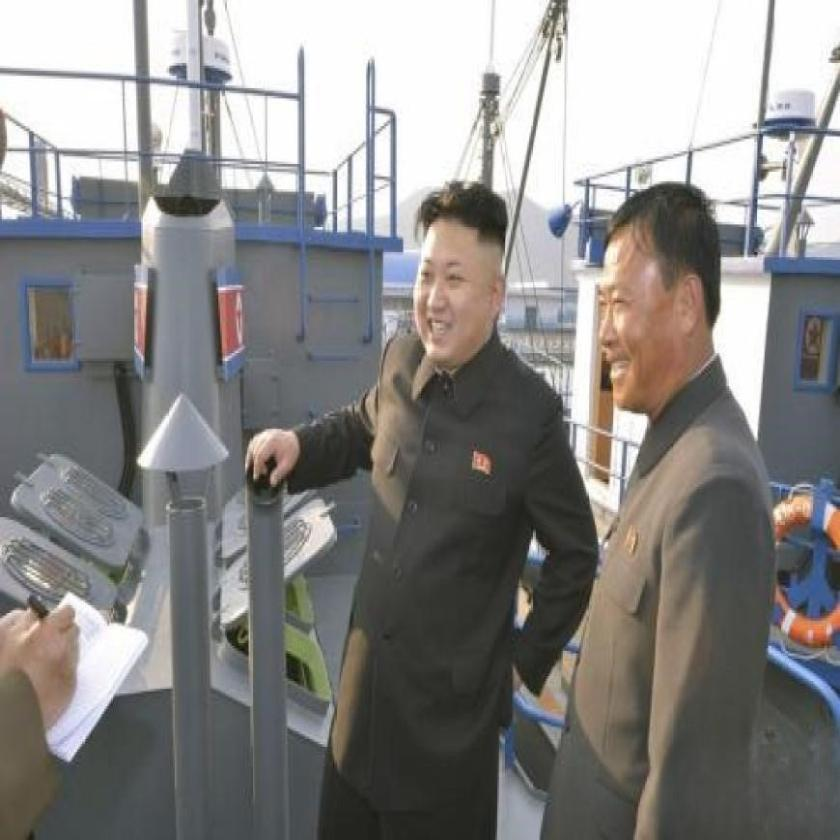Sin_casco: (592, 154, 730, 370), (408, 171, 538, 388)
